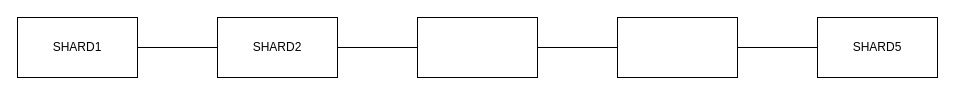
The diagram is 955 pixels wide and 95 high, and some of its shapes have lost their labels. Here are the shapes that lost their labels. From the top down, the centre of each, then its label:
(477,47): SHARD3
(677,47): SHARD4
